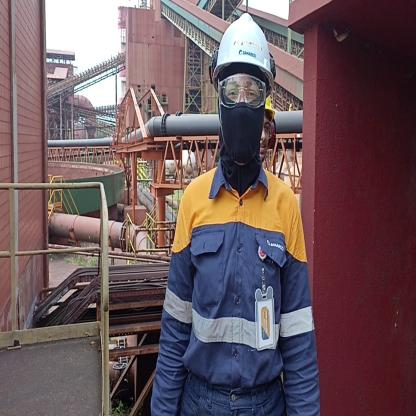Balaclava: (219, 68, 262, 179)
Capacete: (209, 10, 275, 76)
Operacional: (158, 167, 318, 398)
